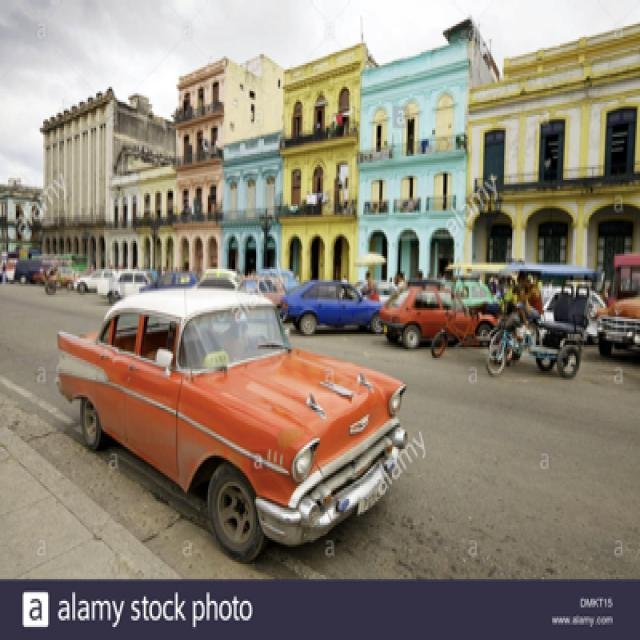licence: (360, 471, 386, 518)
